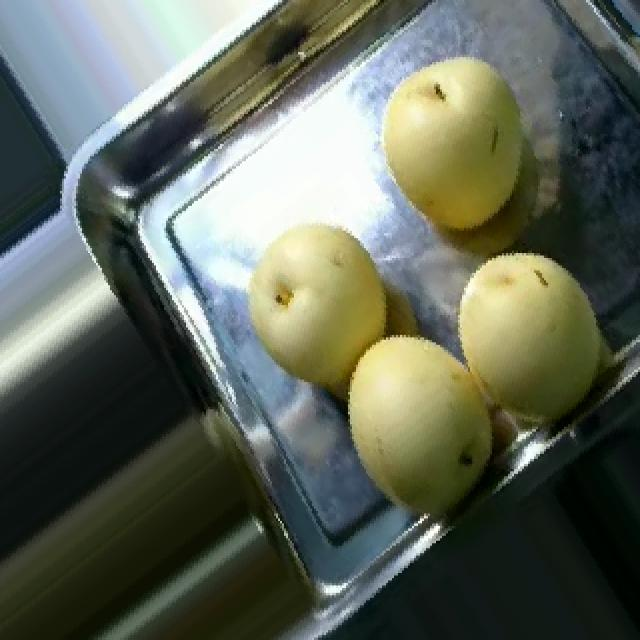Fruit: (306, 290, 540, 548), (424, 226, 640, 451), (360, 35, 550, 258), (230, 204, 418, 429)
